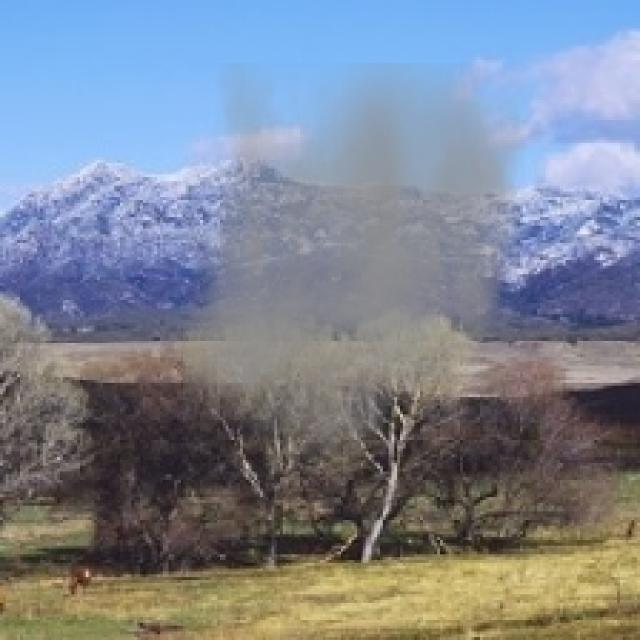smoke: (183, 63, 526, 480)
